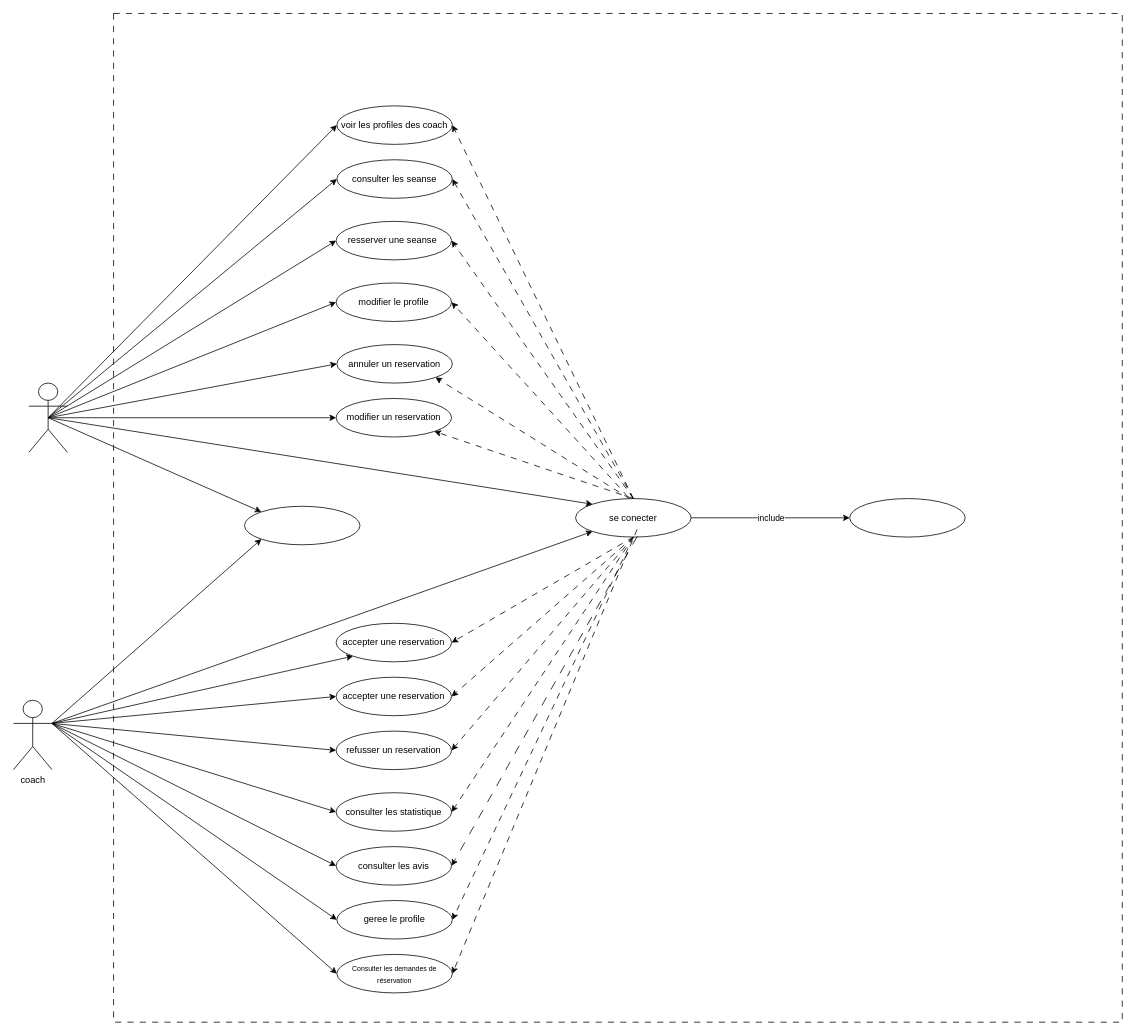
This 1136x1036 diagram has some shape labels left out. The box of each missing label's shape, as (x1, y1, x2, y2) in pixels:
se de conecter: (244, 506, 360, 545)
sportif: (28, 382, 67, 452)
verification information: (849, 498, 965, 537)
